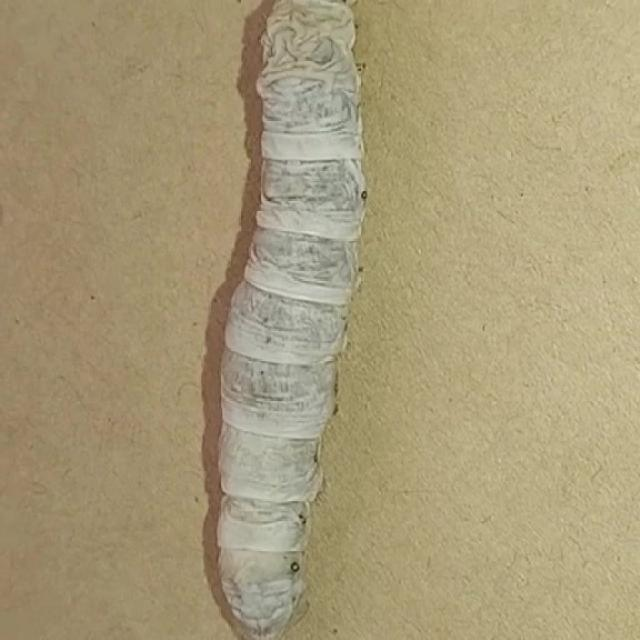Grasserie: (176, 1, 429, 640)
